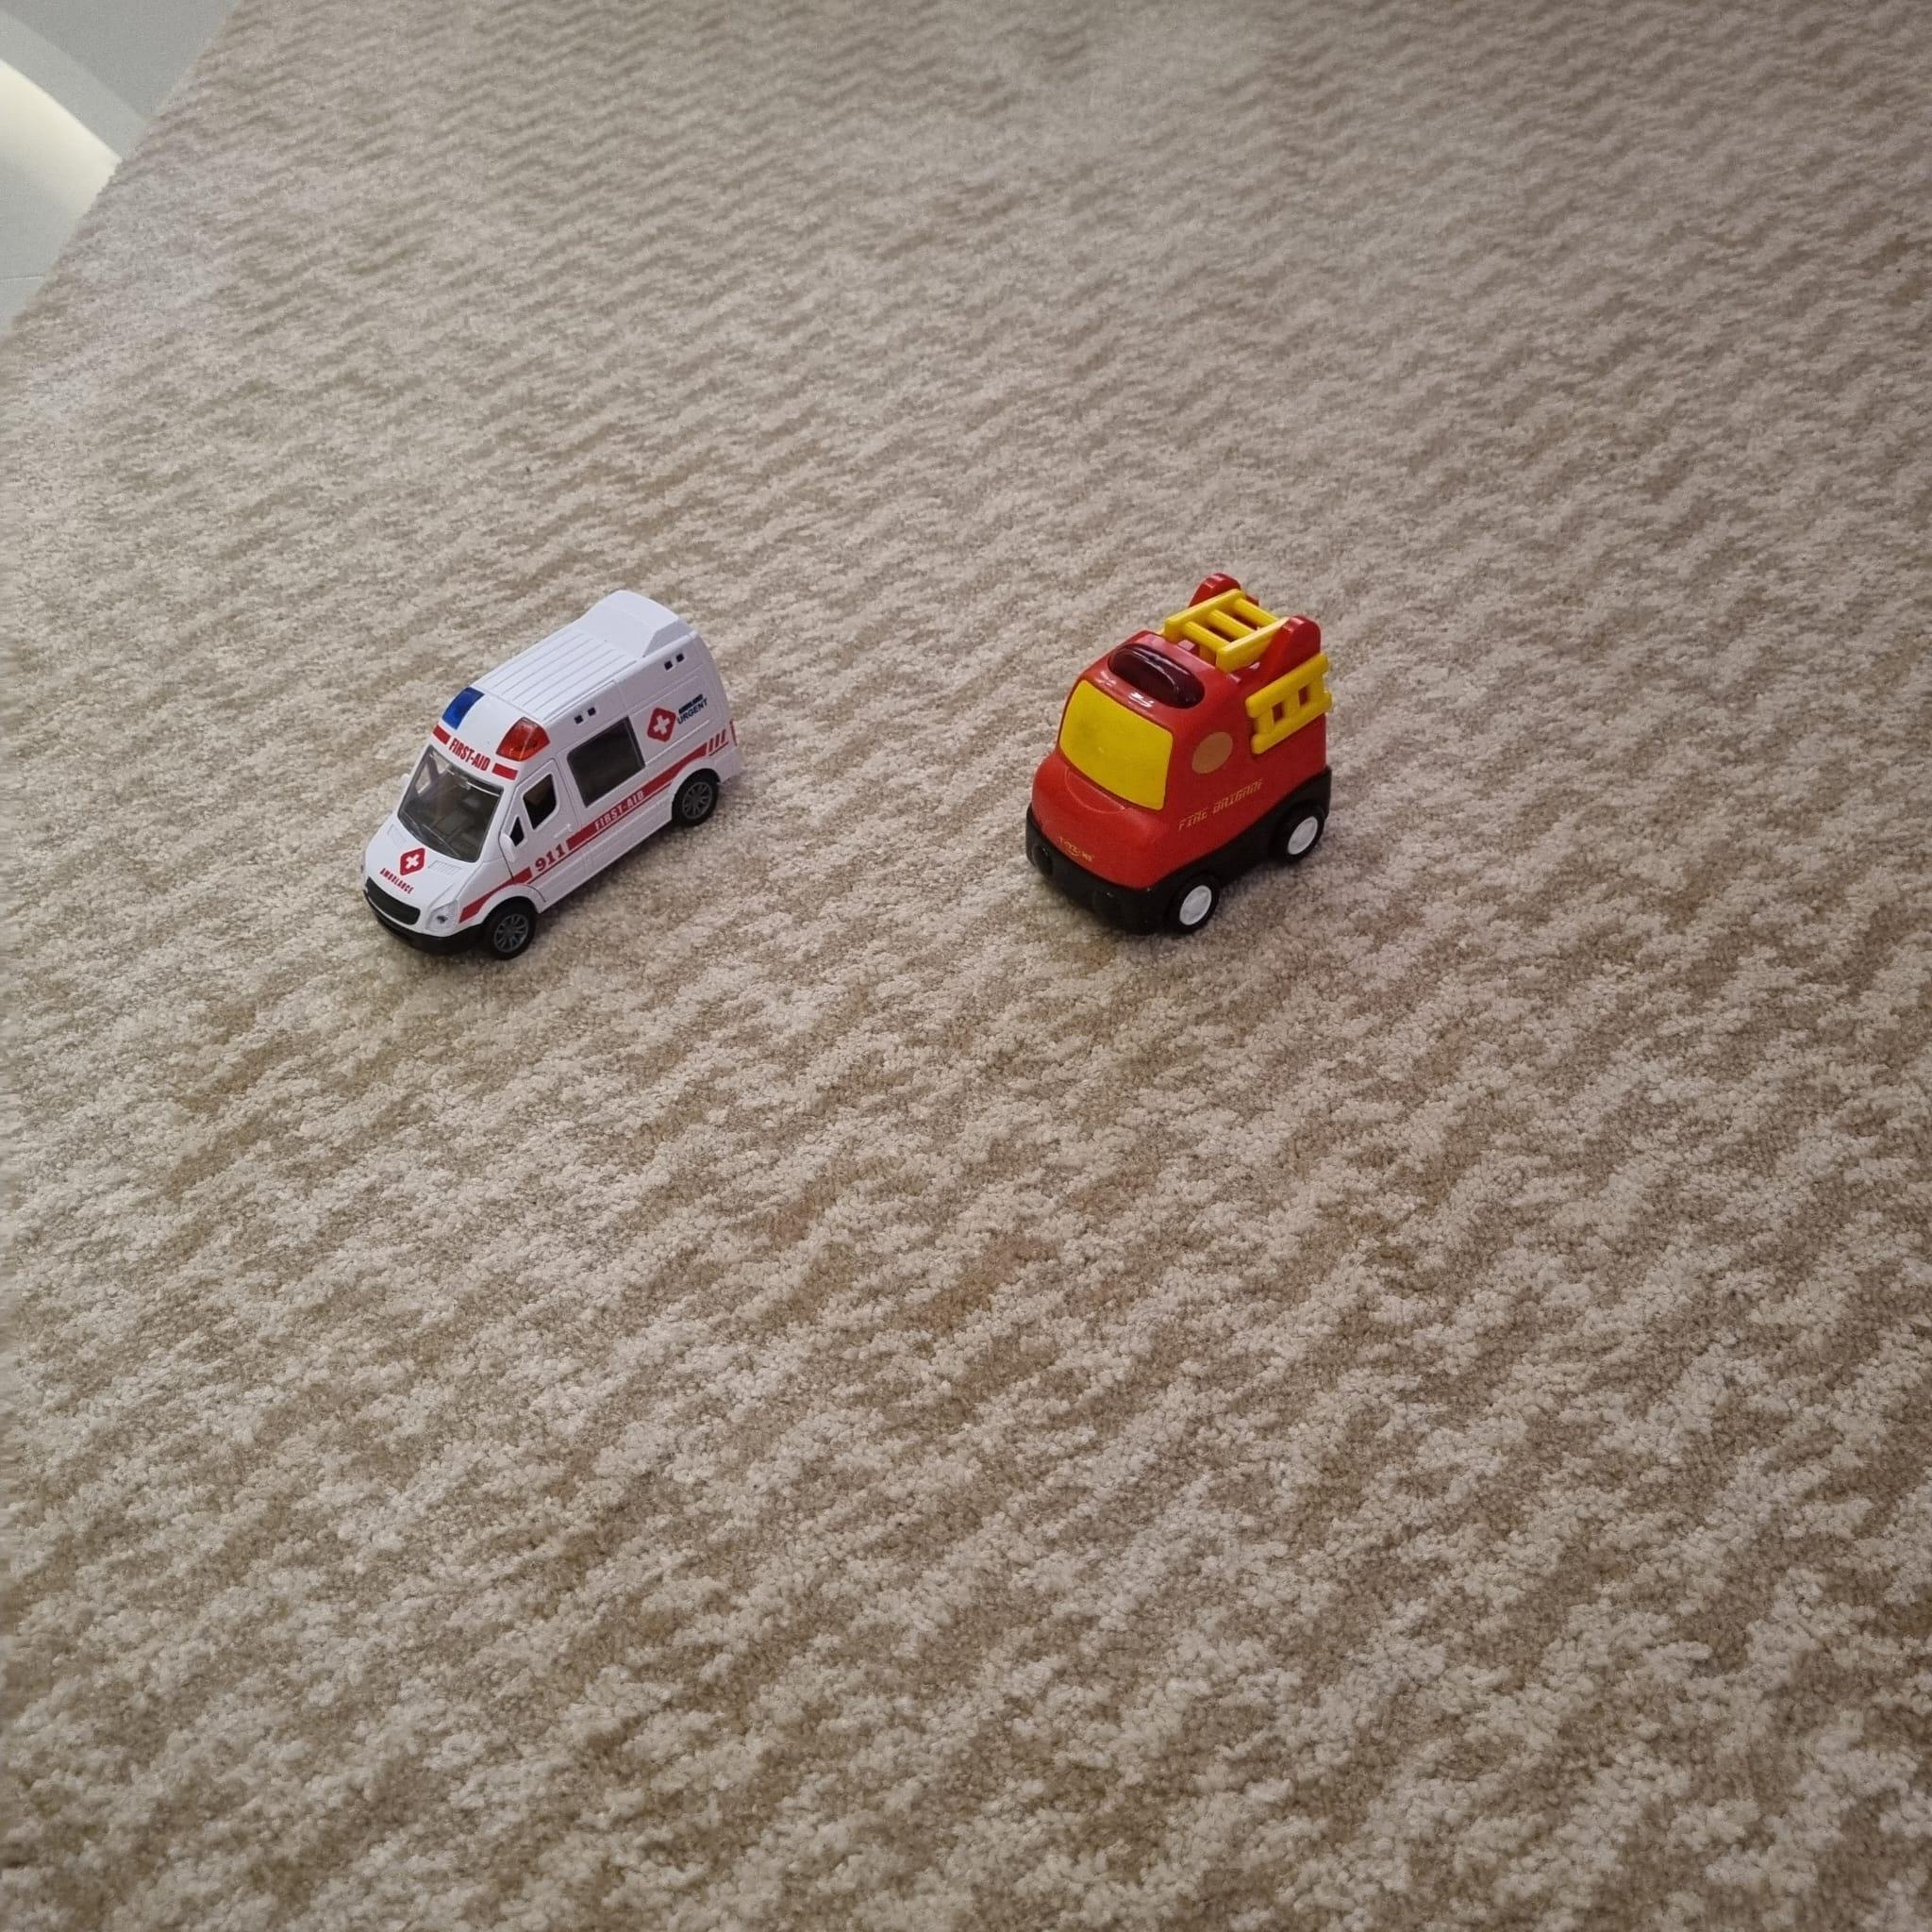ambulance_off: (354, 580, 743, 971)
firetruck_off: (1019, 571, 1322, 945)
